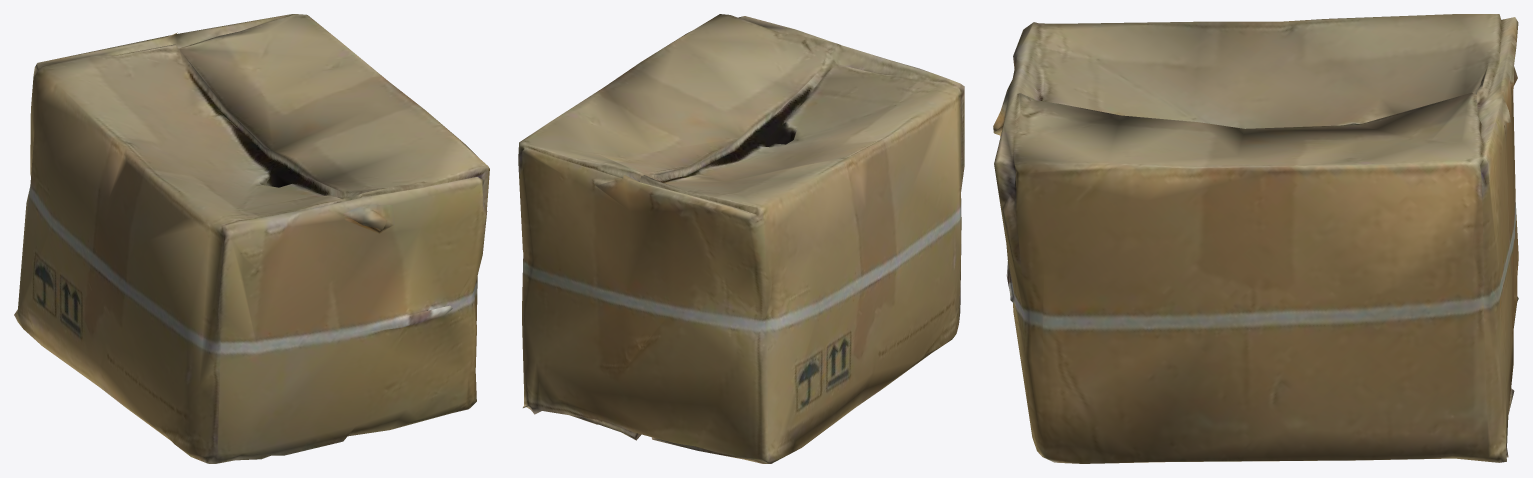
The model's file is cardboard_box_01.glb.
3 renders of one model, left to right at view 1: azimuth 30°, elevation 25°; view 2: azimuth 150°, elevation 25°; view 3: azimuth 270°, elevation 25°, orthographic. The views are drawn at different scales.
Visible parts, largest first — view 1: cardboard_box_01; view 2: cardboard_box_01; view 3: cardboard_box_01.
Boxes of the visible parts, left/top/right/bottom form: cardboard_box_01: left=14, top=14, right=489, bottom=463; cardboard_box_01: left=518, top=14, right=964, bottom=463; cardboard_box_01: left=993, top=14, right=1518, bottom=463.
Size of the model in its own units: 0.3855 by 0.3407 by 0.5159.
Materials: 1 (1 with a texture image).
